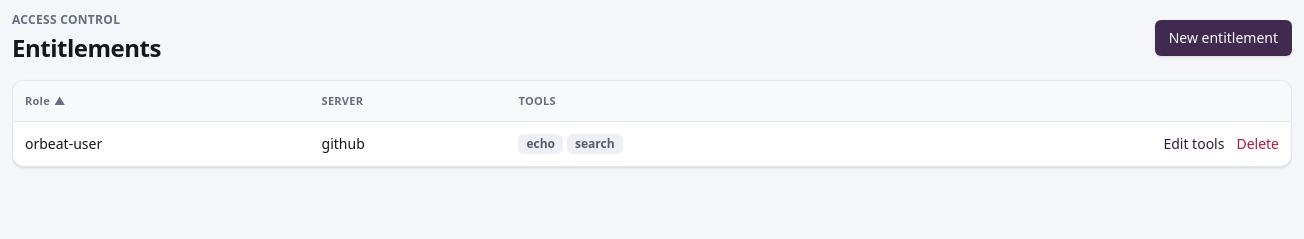
Scenario: a 412 tells the user someone else changed it, not a raw error
Expected: the text "github" is shown, [310,121,506,166]
Click the button "Edit tools" at (1194, 144), box [1163,134,1224,154]
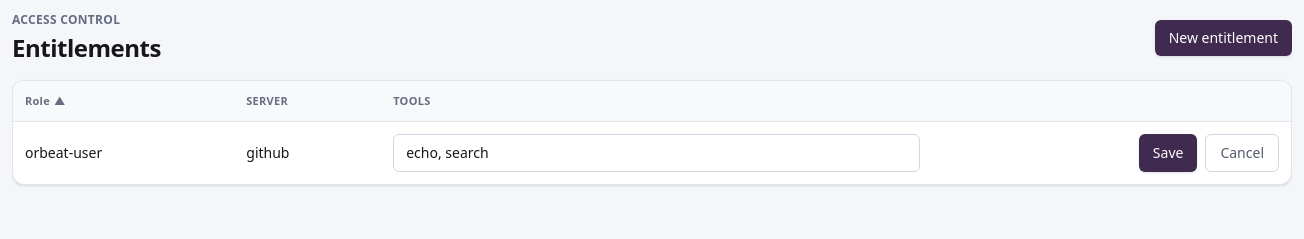
Click the button "Save" at (1168, 153), box [1139,134,1197,172]
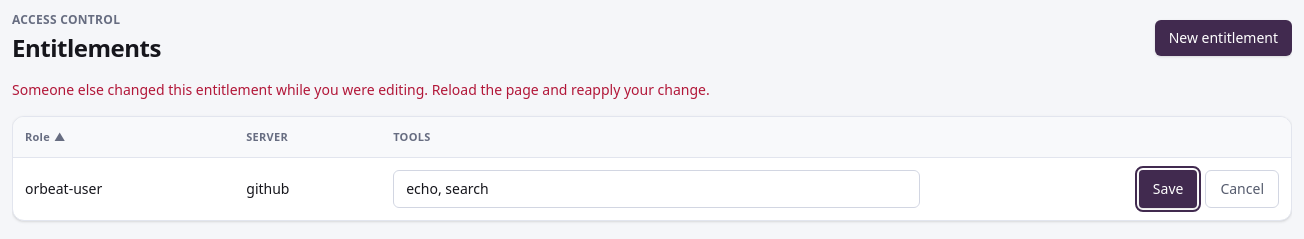
Expected: the text "Someone else changed this entitlement" is shown, [12,80,710,99]
